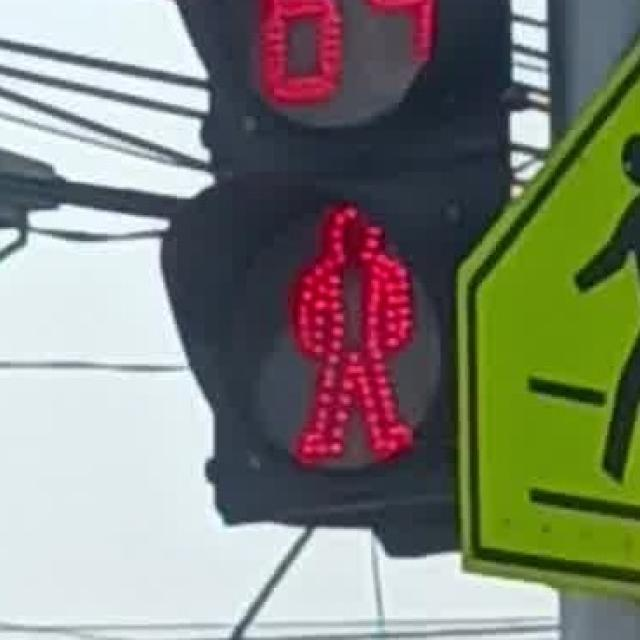red-crossing: (274, 192, 425, 476)
